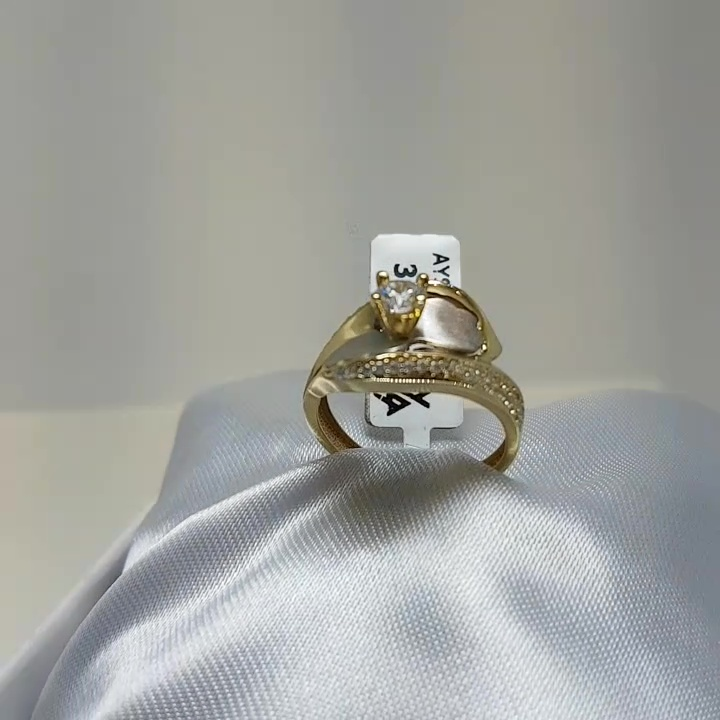Ring 6: (297, 261, 526, 465)
